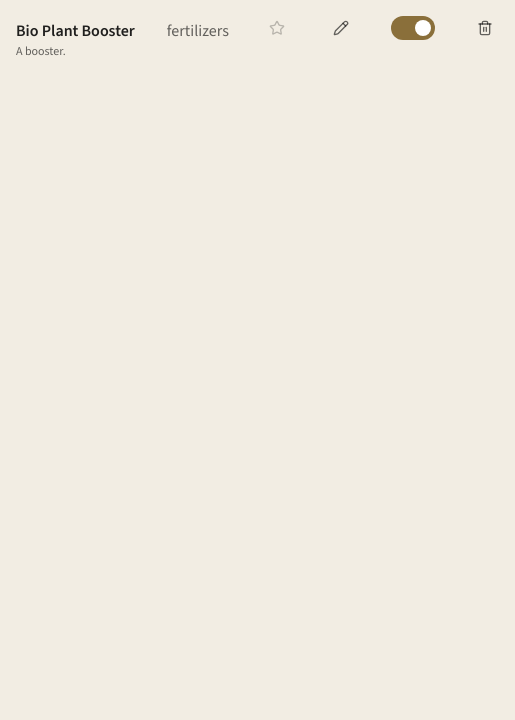
it: CustomProductRow — bilingual English fields › renders the English prose inputs in the edit form
Click the button named "edit". click: (341, 28)
box: [325,12,357,44]
(page scrolled)
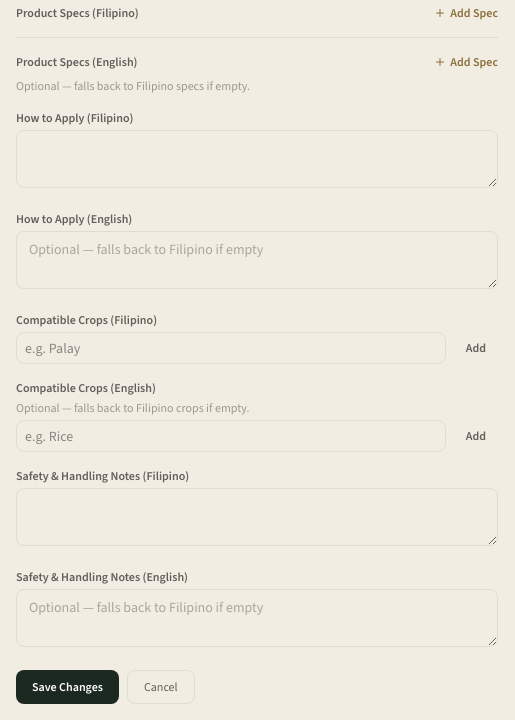
Now the text "How to Apply (English)" is shown, box [16,211,132,227]
Now the text "Safety & Handling Notes (English)" is shown, box [16,569,188,585]
Now the text "Product Specs (English)" is shown, box [16,54,138,70]
